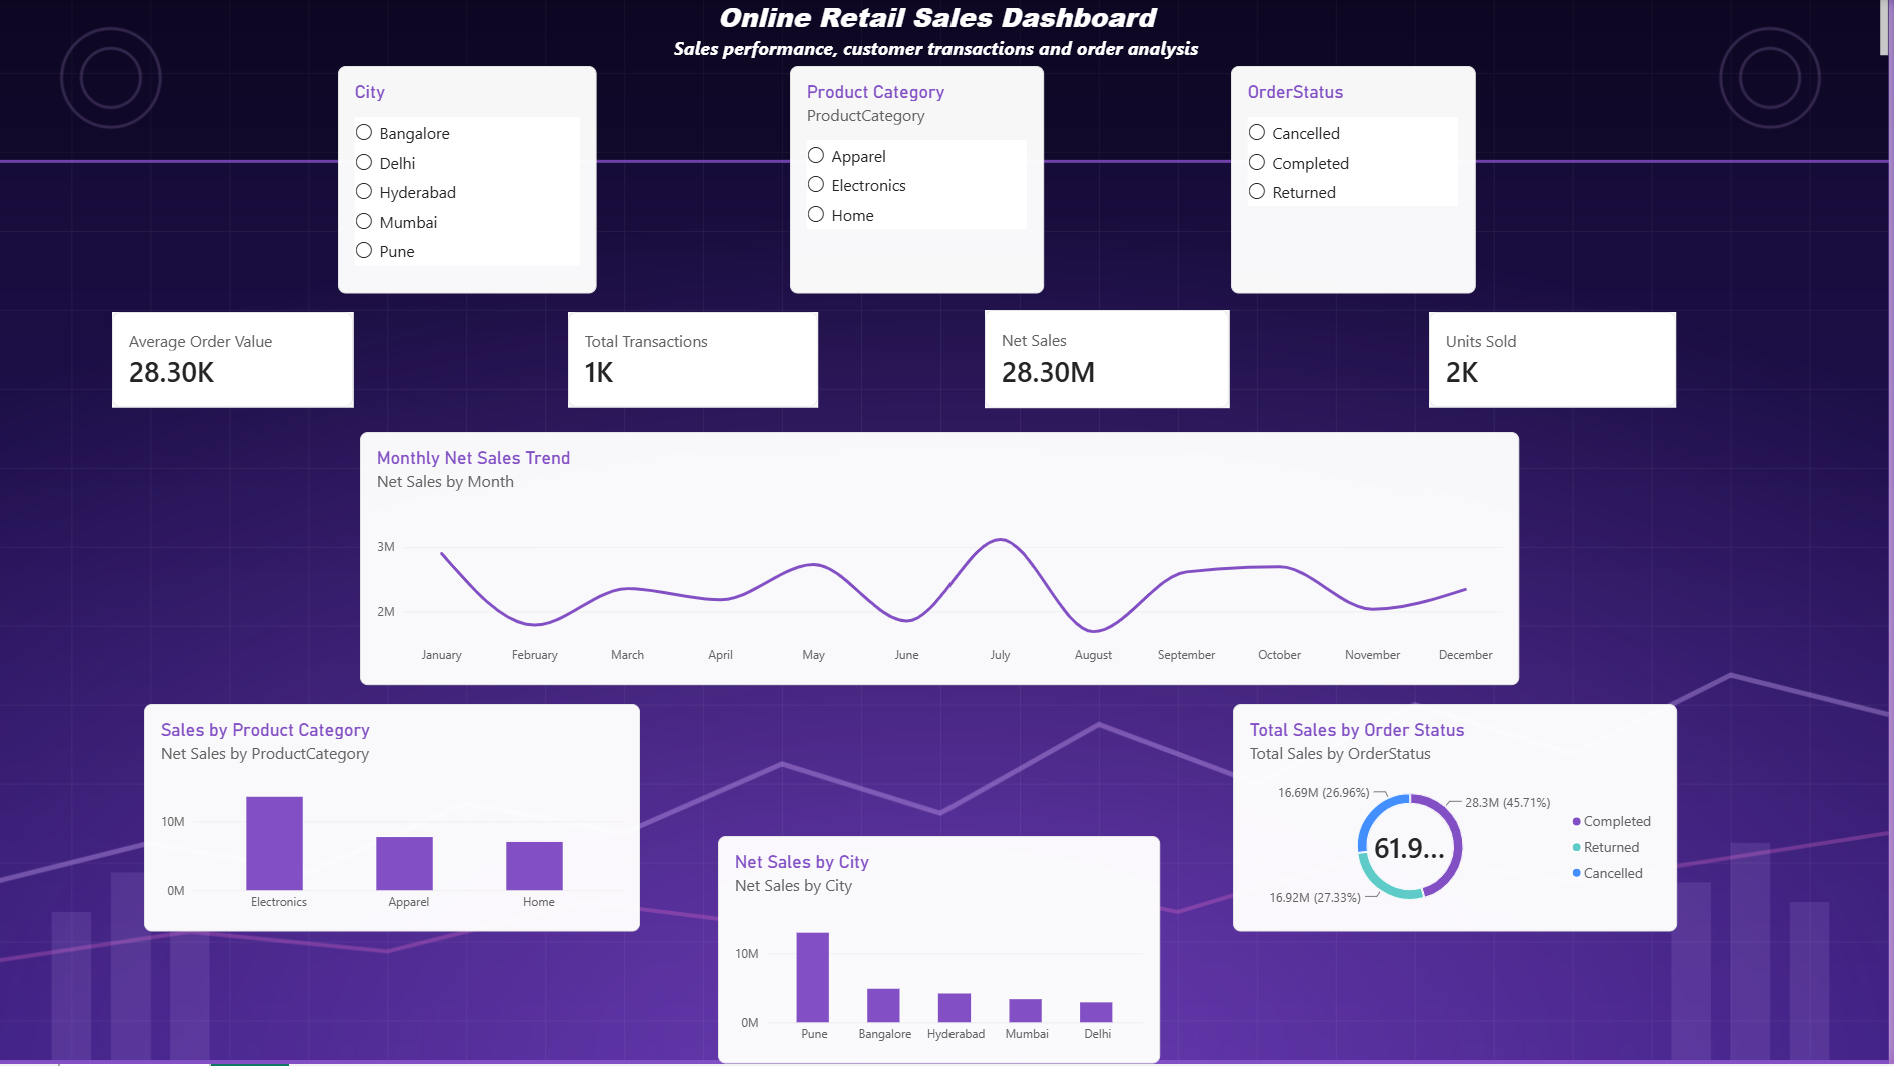

The dashboard page shown, as its layout file describes it:
{"tool":"powerbi","page":{"name":"Page 1","canvas":[1920,1080],"ordinal":0},"visuals":[{"type":"cardVisual","fields":{"Data":["Retail_Transactions.Net Sales"]},"box":[1005.6,316.2,247.8,99.7],"z":0},{"type":"cardVisual","fields":{"Data":["Retail_Transactions.Average Order Value"]},"box":[122.5,319.1,245,96.9],"z":1000},{"type":"cardVisual","fields":{"Data":["Retail_Transactions.Total Transactions"]},"box":[584,319.1,253.5,96.9],"z":2000},{"type":"cardVisual","fields":{"Data":["Retail_Transactions.Units Sold"]},"box":[1455.7,319.1,250.7,96.9],"z":3000},{"type":"lineChart","title":"Monthly Net Sales Trend","fields":{"Category":["Retail_Transactions.TransactionDate.Variation.Date Hierarchy.Month"],"Y":["Retail_Transactions.Net Sales"]},"box":[373.2,438.7,1173.6,256.4],"z":4000},{"type":"clusteredColumnChart","title":"Sales by Product Category","fields":{"Category":["Retail_Transactions.ProductCategory"],"Y":["Retail_Transactions.Net Sales"]},"box":[154.1,714.6,502.6,230.7],"z":5000},{"type":"donutChart","title":"Total Sales by Order Status","fields":{"Category":["Retail_Transactions.OrderStatus"],"Y":["Retail_Transactions.Total Sales"]},"box":[1256.4,714.6,450.1,230.7],"z":6000},{"type":"clusteredColumnChart","title":"Net Sales by City","fields":{"Category":["Retail_Transactions.City"],"Y":["Retail_Transactions.Net Sales"]},"box":[736.2,849.1,447.2,230.7],"z":7000},{"type":"listSlicer","fields":{"Values":["Retail_Transactions.City"]},"box":[350.4,68.4,262.1,230.7],"z":8000},{"type":"listSlicer","title":"Product Category","fields":{"Values":["Retail_Transactions.ProductCategory"]},"box":[809,68.4,256.4,230.7],"z":9000},{"type":"listSlicer","fields":{"Values":["Retail_Transactions.OrderStatus"]},"box":[1253.4,68.4,247.8,230.7],"z":10000},{"type":"textbox","box":[0,0,1920,68.4],"z":13000}]}

Visuals, with their boxes in screenshot pixels (x1, y1, x2, y2), scaled from the page's 1920x1080 canvas onto the 1894x1066 screenshot:
cardVisual - Retail_Transactions.Net Sales: x1=992, y1=312, x2=1236, y2=411
cardVisual - Retail_Transactions.Average Order Value: x1=121, y1=315, x2=363, y2=411
cardVisual - Retail_Transactions.Total Transactions: x1=576, y1=315, x2=826, y2=411
cardVisual - Retail_Transactions.Units Sold: x1=1436, y1=315, x2=1683, y2=411
"Monthly Net Sales Trend" lineChart: x1=368, y1=433, x2=1526, y2=686
"Sales by Product Category" clusteredColumnChart: x1=152, y1=705, x2=648, y2=933
"Total Sales by Order Status" donutChart: x1=1239, y1=705, x2=1683, y2=933
"Net Sales by City" clusteredColumnChart: x1=726, y1=838, x2=1167, y2=1065
listSlicer - Retail_Transactions.City: x1=346, y1=68, x2=604, y2=295
"Product Category" listSlicer: x1=798, y1=68, x2=1051, y2=295
listSlicer - Retail_Transactions.OrderStatus: x1=1236, y1=68, x2=1481, y2=295
textbox: x1=0, y1=0, x2=1893, y2=68
